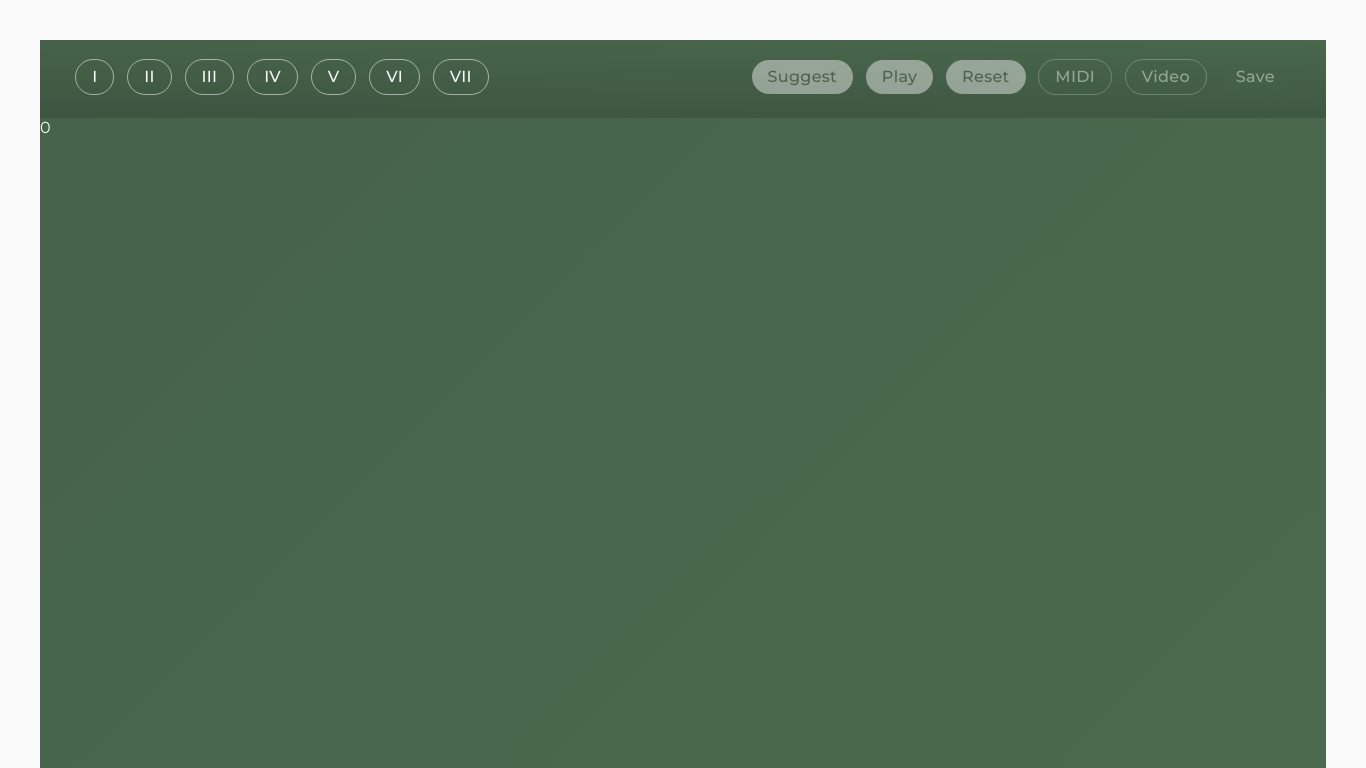
Test case: ChordDock › disables Suggest, Play, Reset and Save until there are chords
Expected: the button "Suggest" is disabled, x1=748 y1=56 x2=856 y2=98
Expected: the button "Reset" is disabled, x1=943 y1=56 x2=1029 y2=98
What coordinates should you click on to do the following:
click the button named "Add chord I"
I would click on:
 (95, 77)
Its box is x1=72 y1=56 x2=118 y2=98.
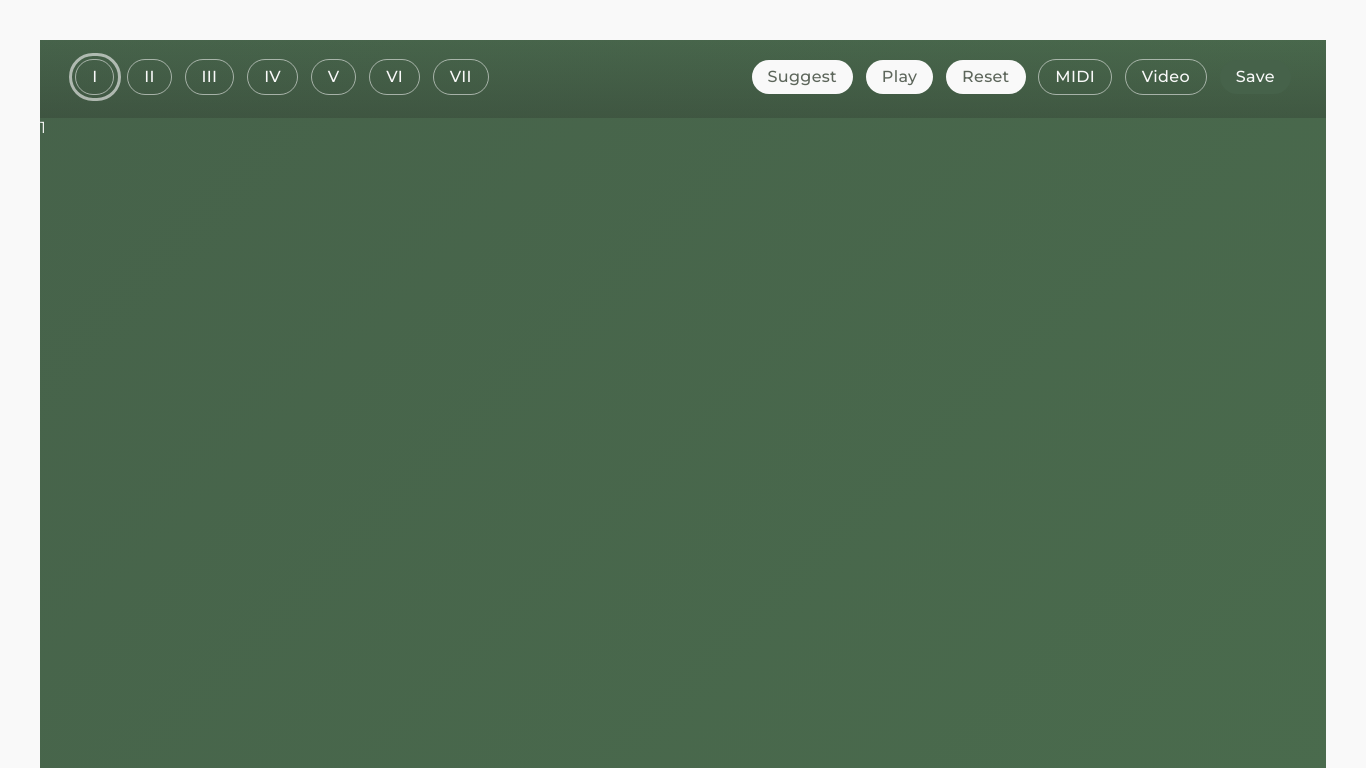
Expected: the button "Suggest" is enabled, x1=748 y1=56 x2=856 y2=98
